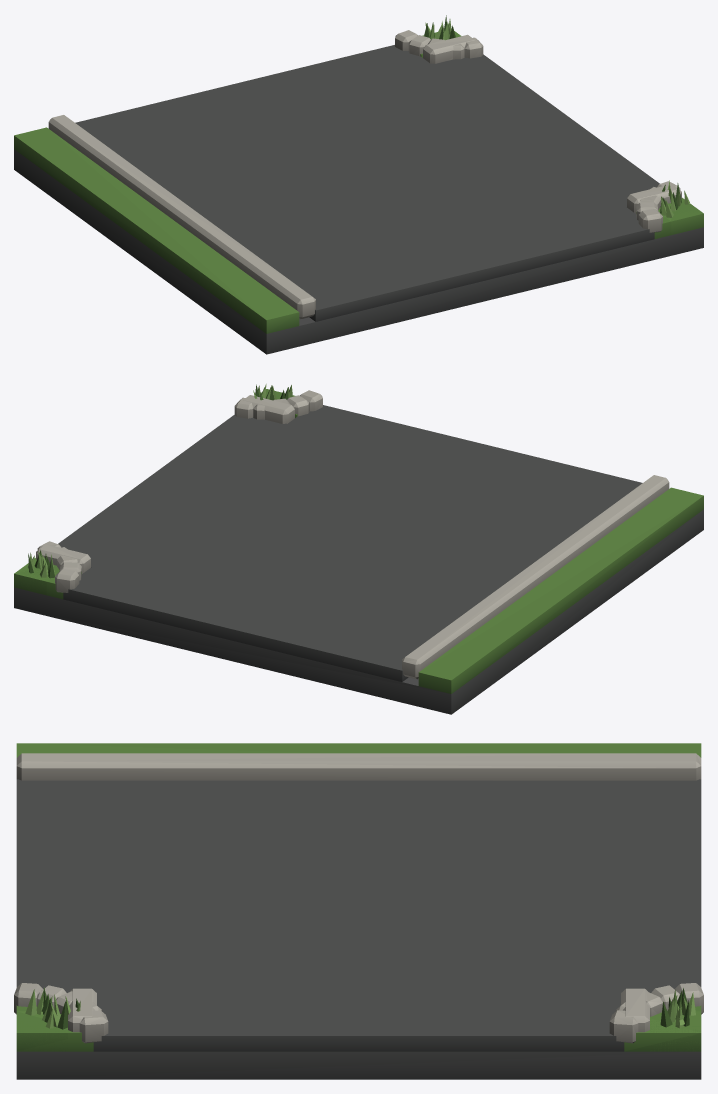
The model's file is street-t.glb.
3 renders of one model, top to bottom at view 1: azimuth 30°, elevation 25°; view 2: azimuth 150°, elevation 25°; view 3: azimuth 270°, elevation 25°, orthographic. The views are drawn at different scales.
Parts seen in each view (by area): view 1: street_t; view 2: street_t; view 3: street_t.
Part boxes in pixels (box(x1,y1,x2,y2)): street_t: box(14, 15, 703, 354); street_t: box(14, 384, 703, 714); street_t: box(14, 743, 703, 1079).
Bounding box in the file's own units: 4.02 × 0.476 × 4.03.
